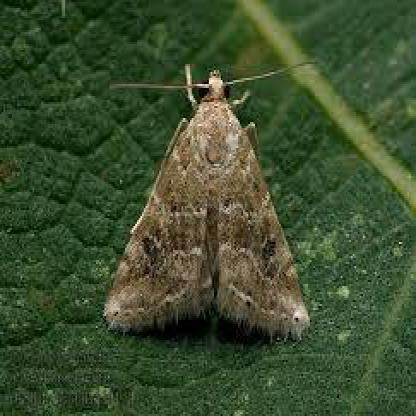Hellula undalis: (99, 49, 341, 340)
